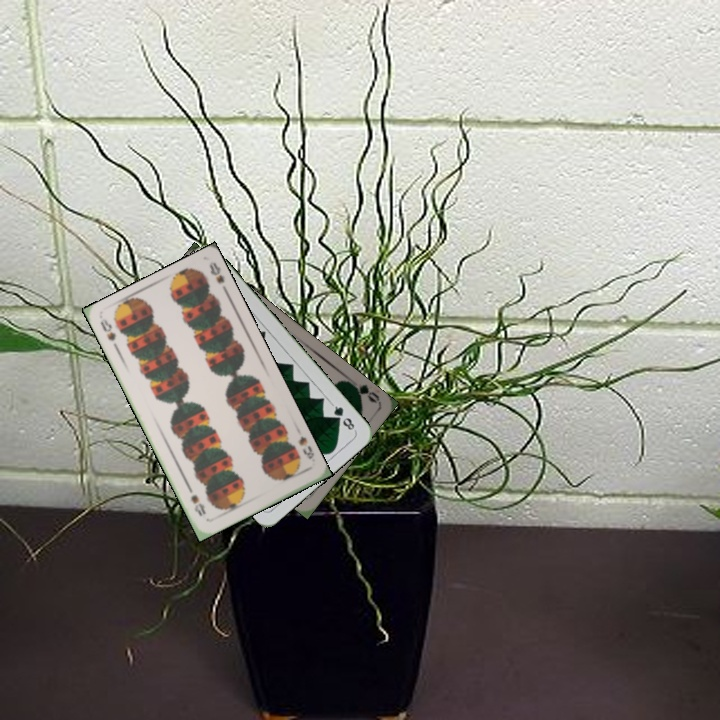G8: (327, 400, 357, 433)
GO: (344, 377, 382, 405)
S8: (96, 315, 122, 354), (295, 432, 317, 462)
